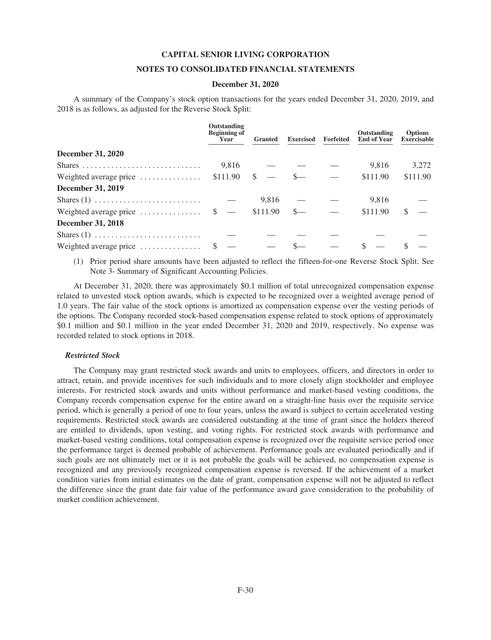box: (55, 122, 434, 254)
